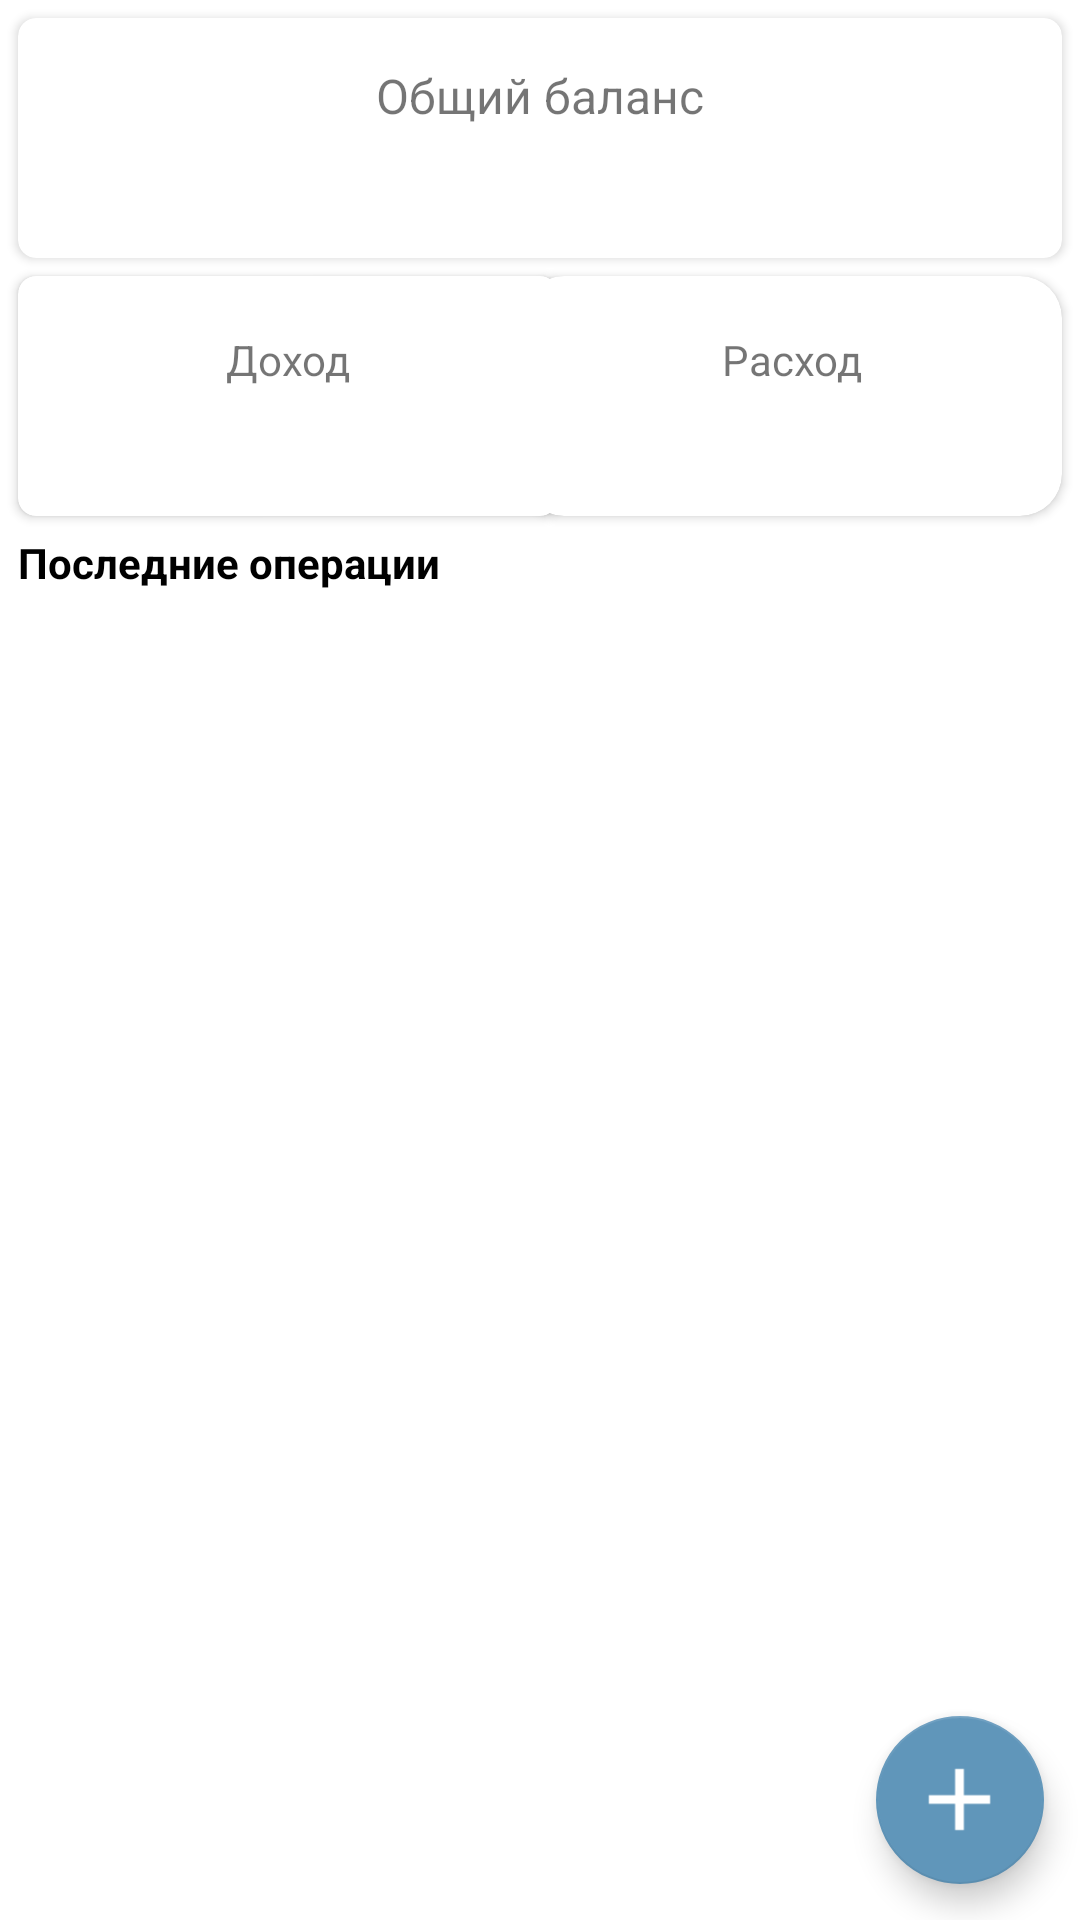

Locate icon controls on the screen. Image size 1080 x 1920, boxes as (x1, y1, x2, y2).
add: (876, 1716, 1044, 1884)
